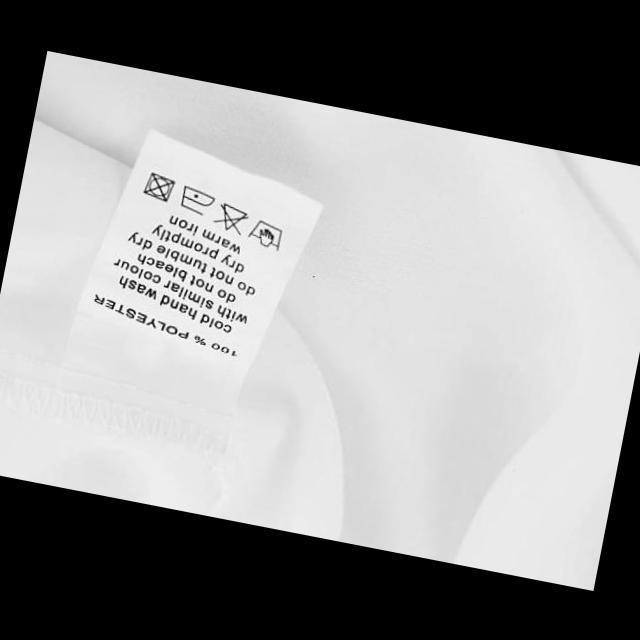DN_bleach: (209, 198, 251, 236)
DN_tumble_dry: (140, 169, 176, 202)
hand_wash: (244, 214, 286, 252)
iron_low: (176, 182, 218, 218)
